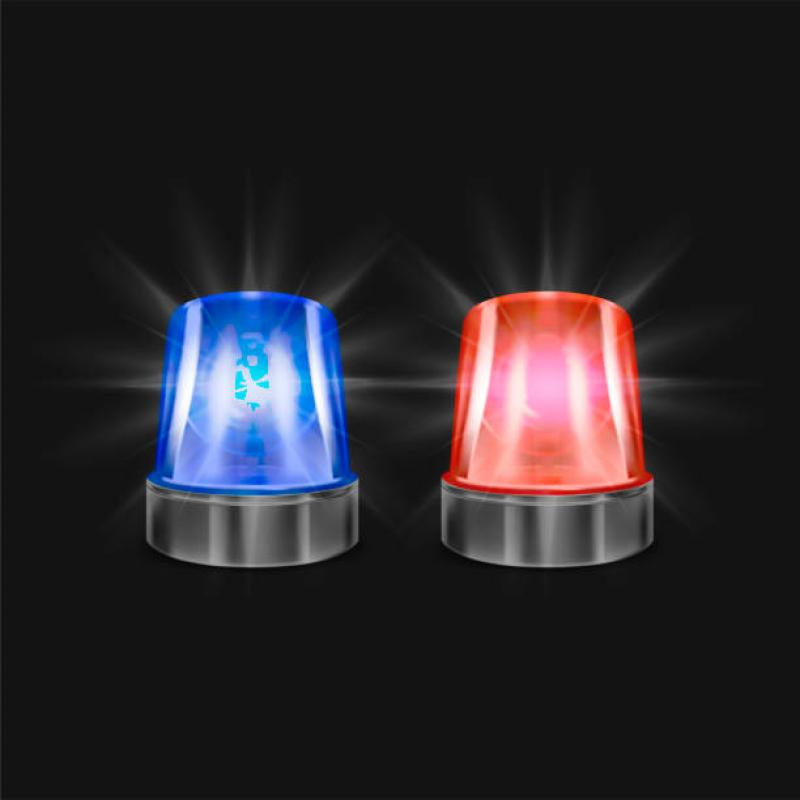AmbulanceSiren: (136, 277, 376, 534), (443, 277, 649, 563)
